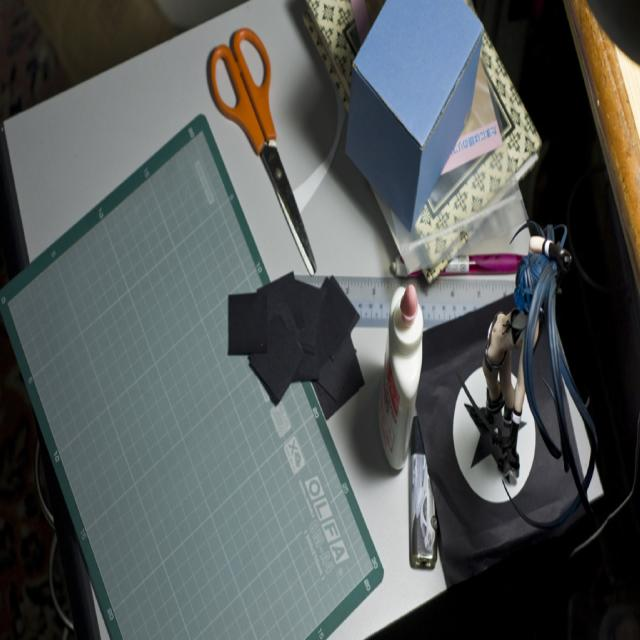scissors: (207, 27, 317, 275)
